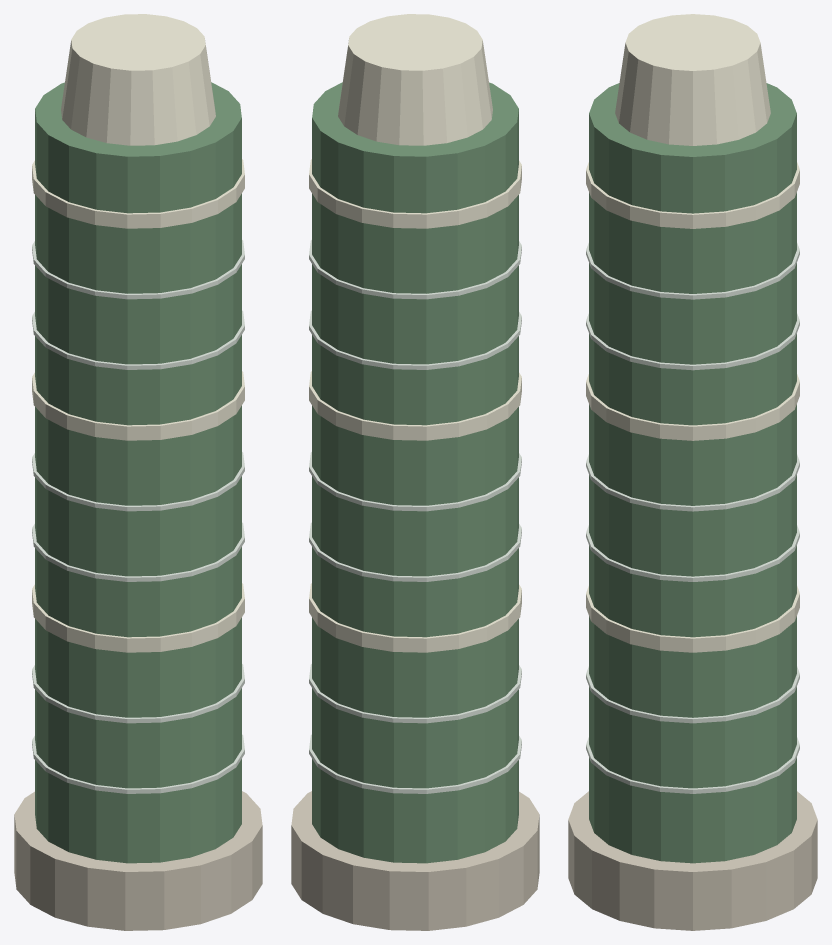
File: zuma-mutual.glb
3 views of the same model, side by side, from view 1: azimuth 30°, elevation 25°; view 2: azimuth 150°, elevation 25°; view 3: azimuth 270°, elevation 25° (orthographic).
Parts seen in each view (by area): view 1: zuma-mutual_Building; view 2: zuma-mutual_Building; view 3: zuma-mutual_Building.
Part boxes in pixels (box(x1,y1,x2,y2)): zuma-mutual_Building: box(14, 14, 262, 930); zuma-mutual_Building: box(291, 14, 539, 930); zuma-mutual_Building: box(568, 14, 817, 930).
Size of the model in its own units: 9.6 by 35.5 by 9.6.
